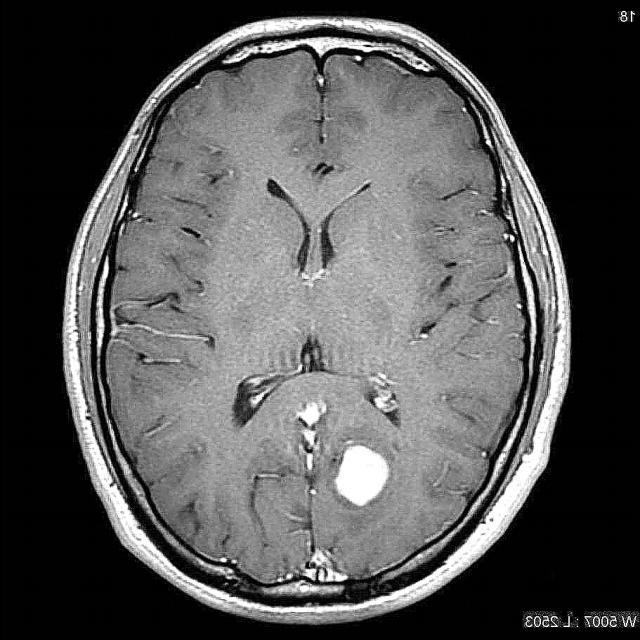Tumor: (329, 441, 400, 514)
